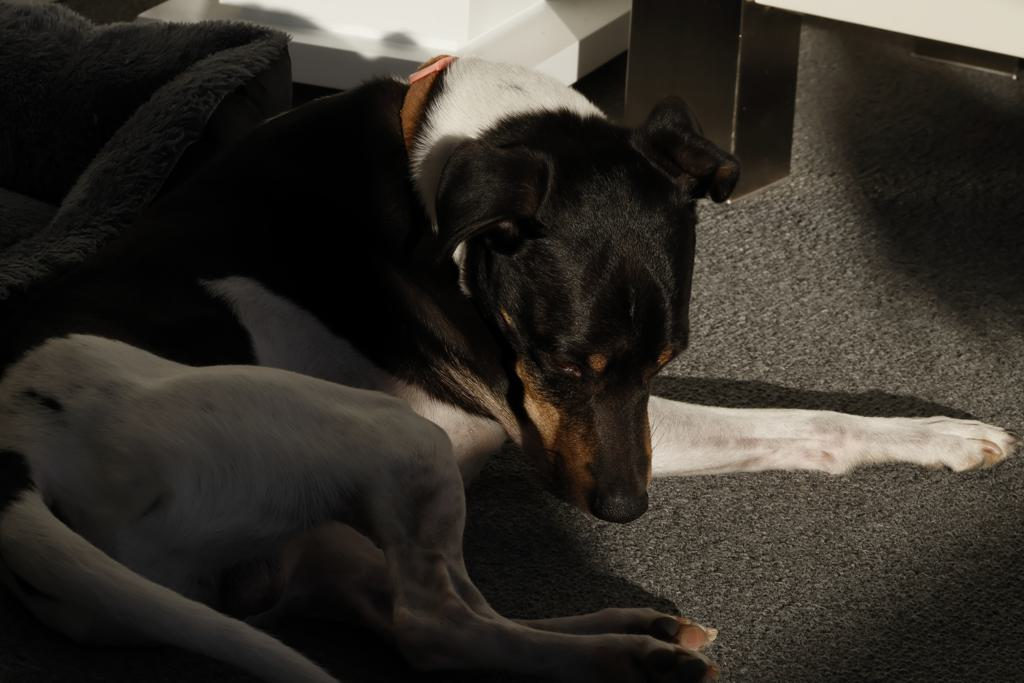Dog: (0, 50, 1024, 683)
